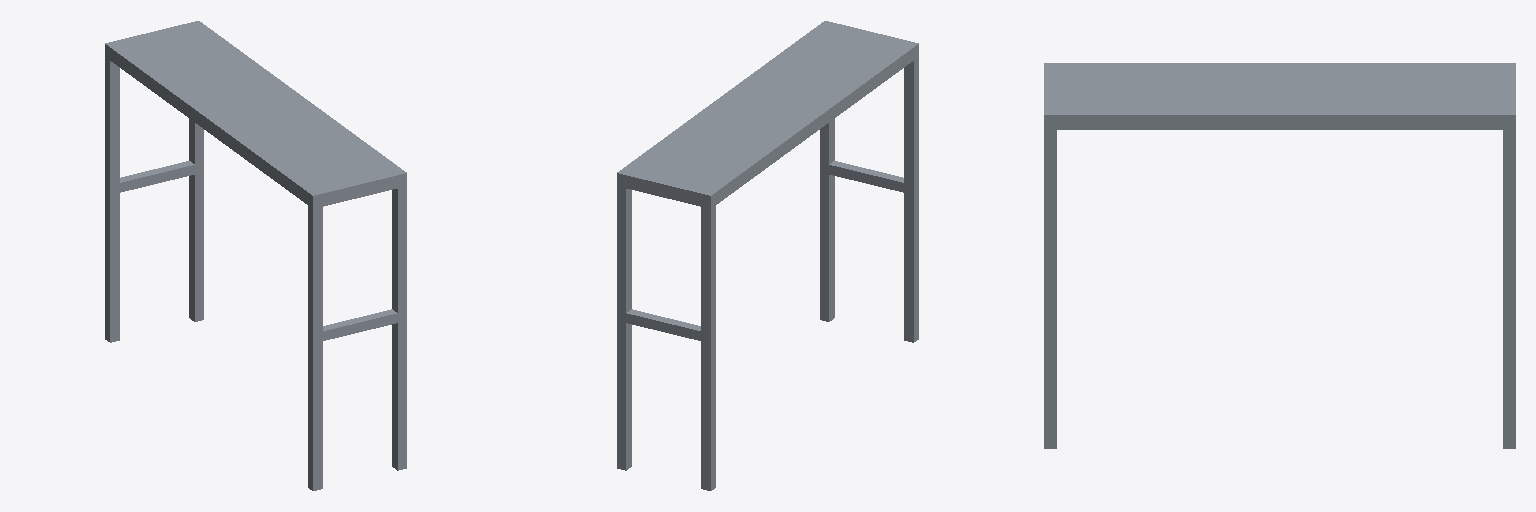
URDF robot description (stirfry_stage_300x1150):
<?xml version="1.0"?>
<!--
  Converted from stirfry_stage_300x1150.step.
  This is the selected V2 layout table: 0.30 x 1.15 m footprint, 0.90 m top.
-->
<robot name="stirfry_stage_300x1150">
  <material name="stainless"><color rgba="0.62 0.65 0.68 1.0"/></material>
  <link name="base_link">
    <inertial>
      <origin xyz="0 0 0.45"/>
      <mass value="30.0"/>
      <inertia ixx="5.33125" ixy="0" ixz="0" iyy="2.25" iyz="0" izz="3.53125"/>
    </inertial>
    <visual>
      <geometry><mesh filename="meshes/stirfry_stage_300x1150.stl" scale="1 1 1"/></geometry>
      <material name="stainless"/>
    </visual>
    <collision name="top"><origin xyz="0 0 0.88"/><geometry><box size="0.30 1.15 0.04"/></geometry></collision>
    <collision name="leg_pp"><origin xyz="0.135 0.560 0.43"/><geometry><box size="0.03 0.03 0.86"/></geometry></collision>
    <collision name="leg_pn"><origin xyz="0.135 -0.560 0.43"/><geometry><box size="0.03 0.03 0.86"/></geometry></collision>
    <collision name="leg_np"><origin xyz="-0.135 0.560 0.43"/><geometry><box size="0.03 0.03 0.86"/></geometry></collision>
    <collision name="leg_nn"><origin xyz="-0.135 -0.560 0.43"/><geometry><box size="0.03 0.03 0.86"/></geometry></collision>
  </link>
</robot>

--- Render facts (derived) ---
Views: 3 orthographic renders of the robot side by side, from view 1: azimuth 30°, elevation 25°; view 2: azimuth 150°, elevation 25°; view 3: azimuth 270°, elevation 25°.
Model stirfry_stage_300x1150 with 1 links and 0 joints (none), rooted at base_link, posed every joint at zero.
Links seen in each view (by area): view 1: base_link; view 2: base_link; view 3: base_link.
Boxes of the visible links, box(x1,y1,x2,y2) form: base_link: box(105, 21, 406, 490); base_link: box(617, 21, 918, 490); base_link: box(1044, 63, 1515, 448).
Bounding box of the posed robot: 0.3 × 1.15 × 0.9 m (x, y, z).
Meshes: 1 distinct files referenced, 1 mesh visuals loaded (1 binary STL).
